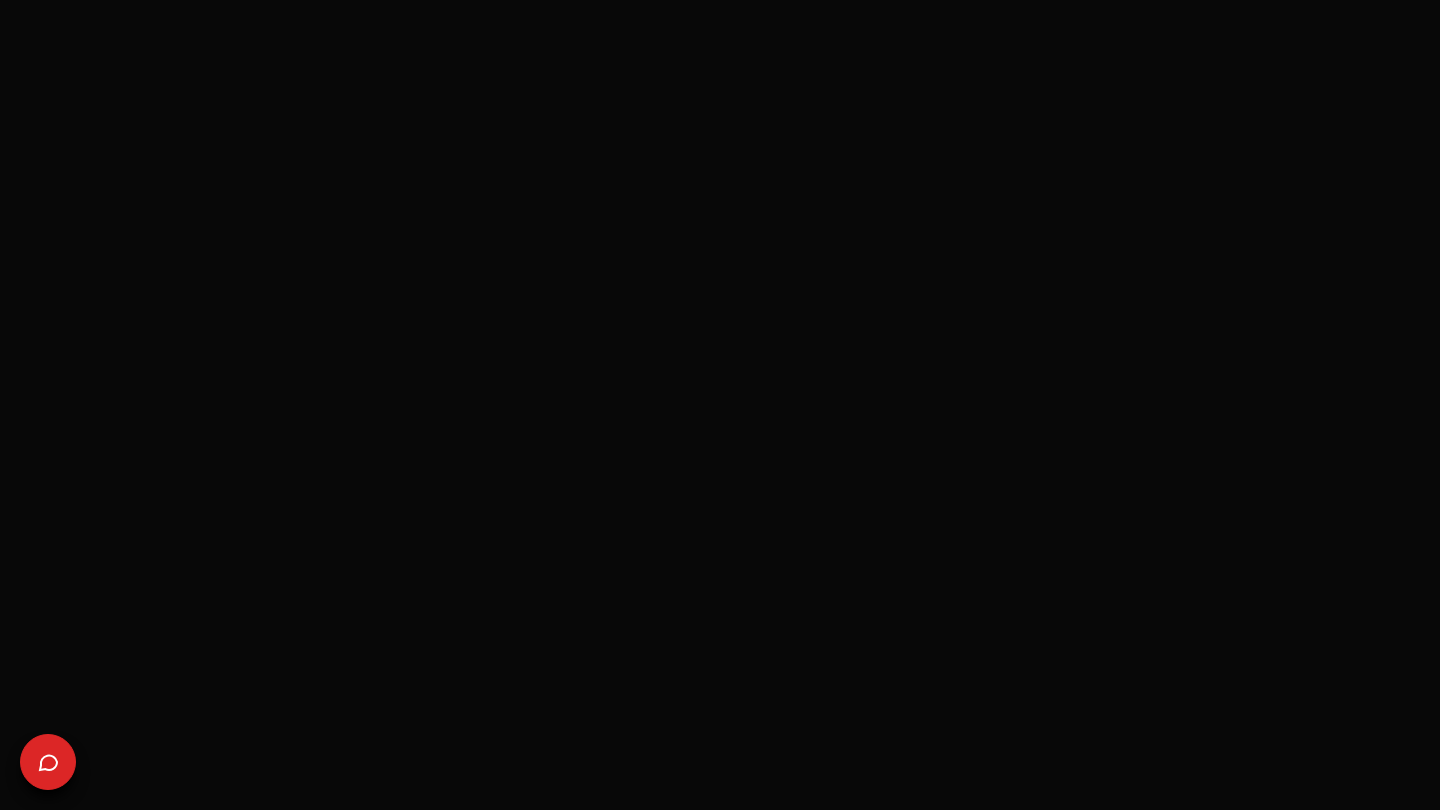
Test: ChatWidget › sends a suggestion when clicked and hides the suggestions
Click the button named "باز کردن چت": (48, 762) [20, 734, 76, 790]
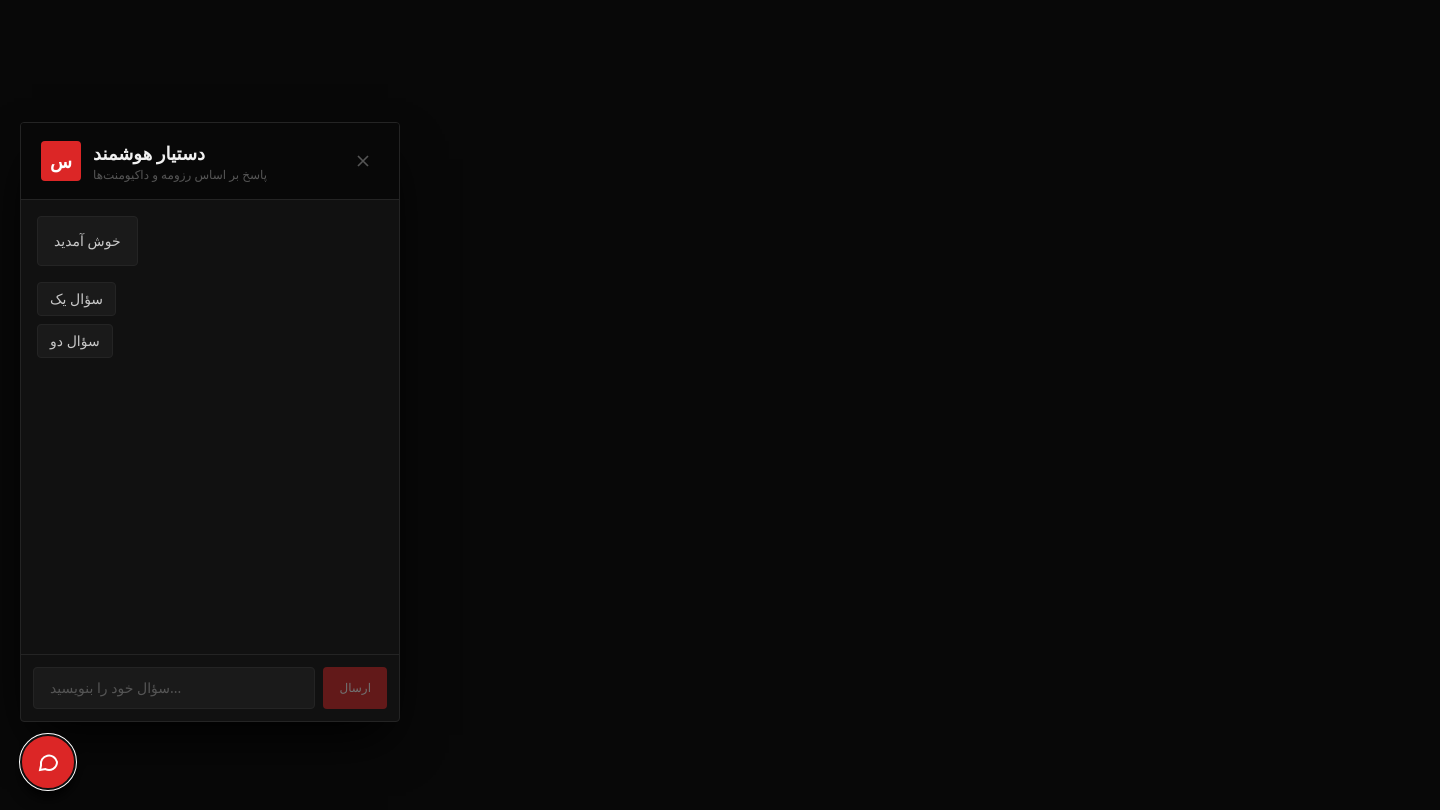
Click the button "سؤال یک": (77, 299) [37, 282, 116, 316]
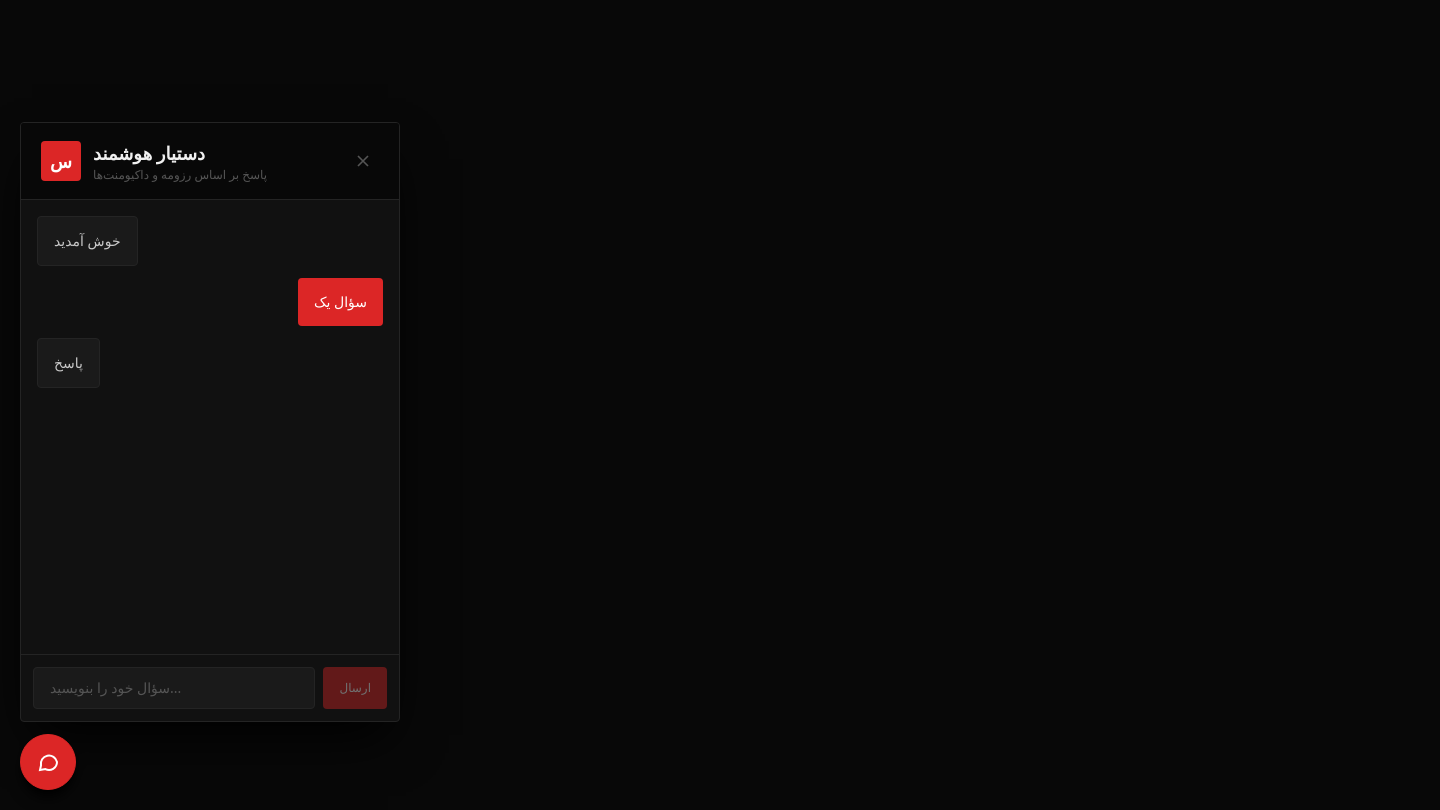
Check: the text "پاسخ" is shown, box [54, 349, 83, 377]
Check: the button "سؤال دو" is gone
